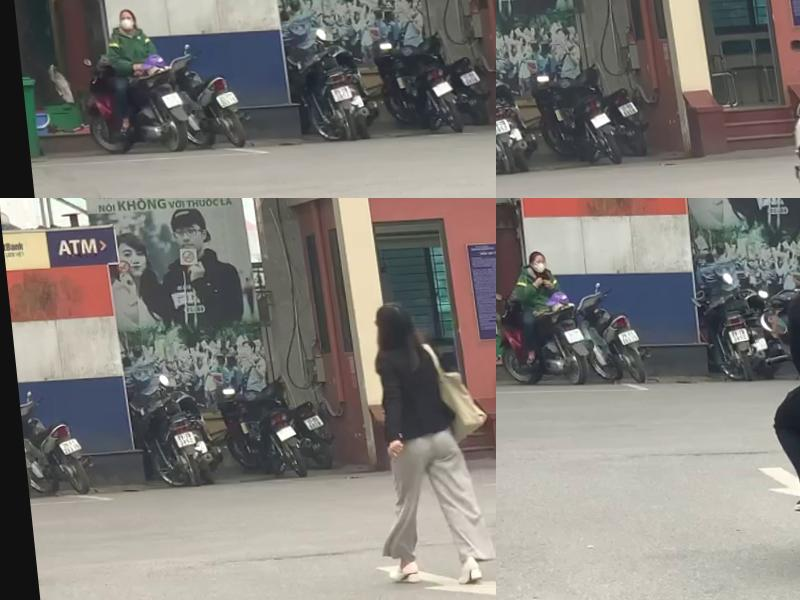license_plate: (50, 434, 78, 458), (165, 428, 191, 452), (611, 328, 635, 351), (722, 326, 746, 349), (266, 423, 292, 444), (295, 414, 319, 435), (425, 82, 449, 102), (609, 101, 633, 120), (581, 112, 604, 131), (210, 92, 234, 110), (453, 73, 477, 91), (156, 92, 178, 111), (325, 86, 348, 104), (560, 329, 581, 348), (496, 117, 505, 137)
motorcyclist: (749, 225, 800, 581), (772, 1, 800, 198)
